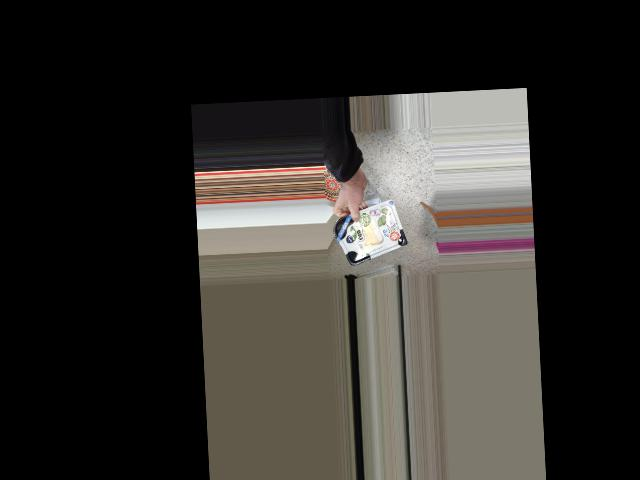cheese: (337, 209, 403, 259)
